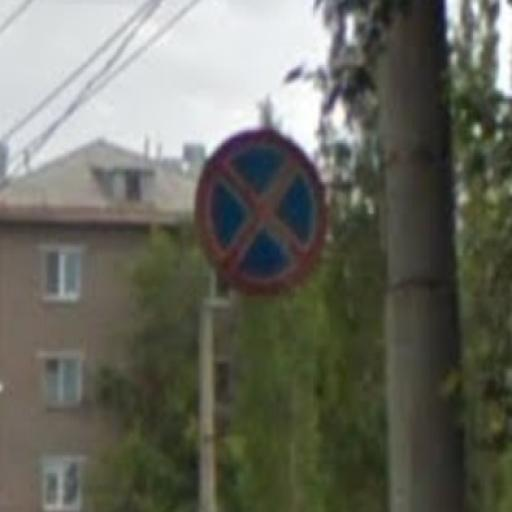traffic_sign: (192, 125, 331, 302)
